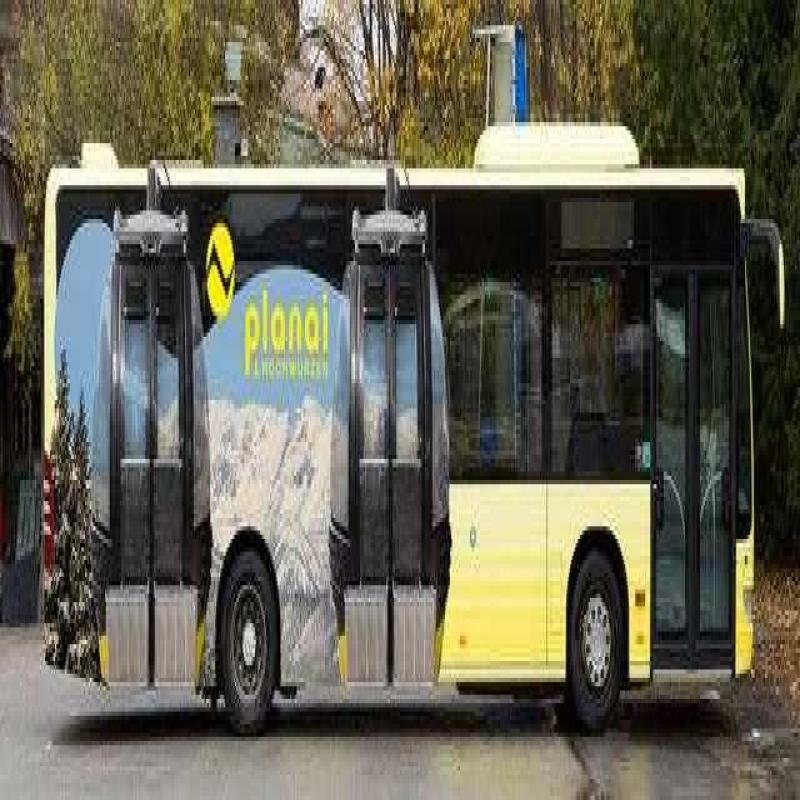bus: (42, 106, 758, 748)
